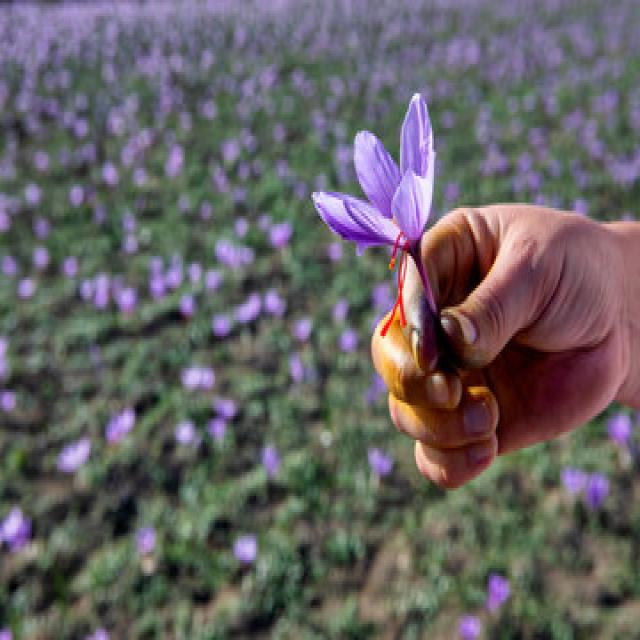saffron open: (313, 94, 436, 310)
